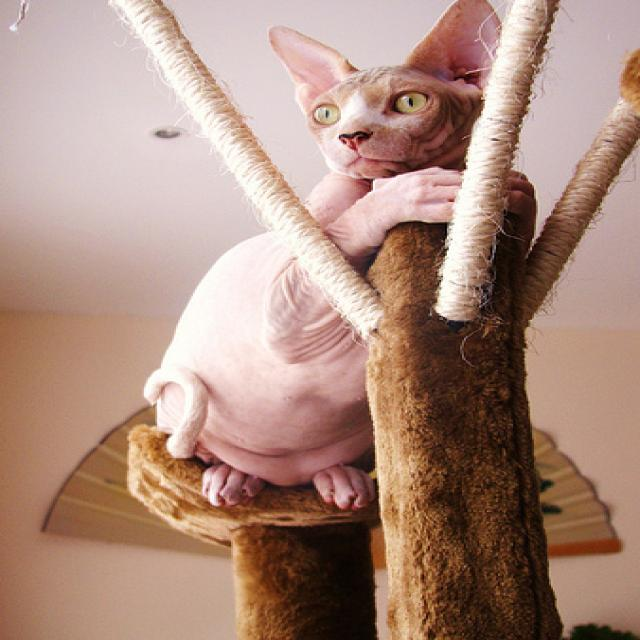Sphynx: (135, 0, 540, 509)
